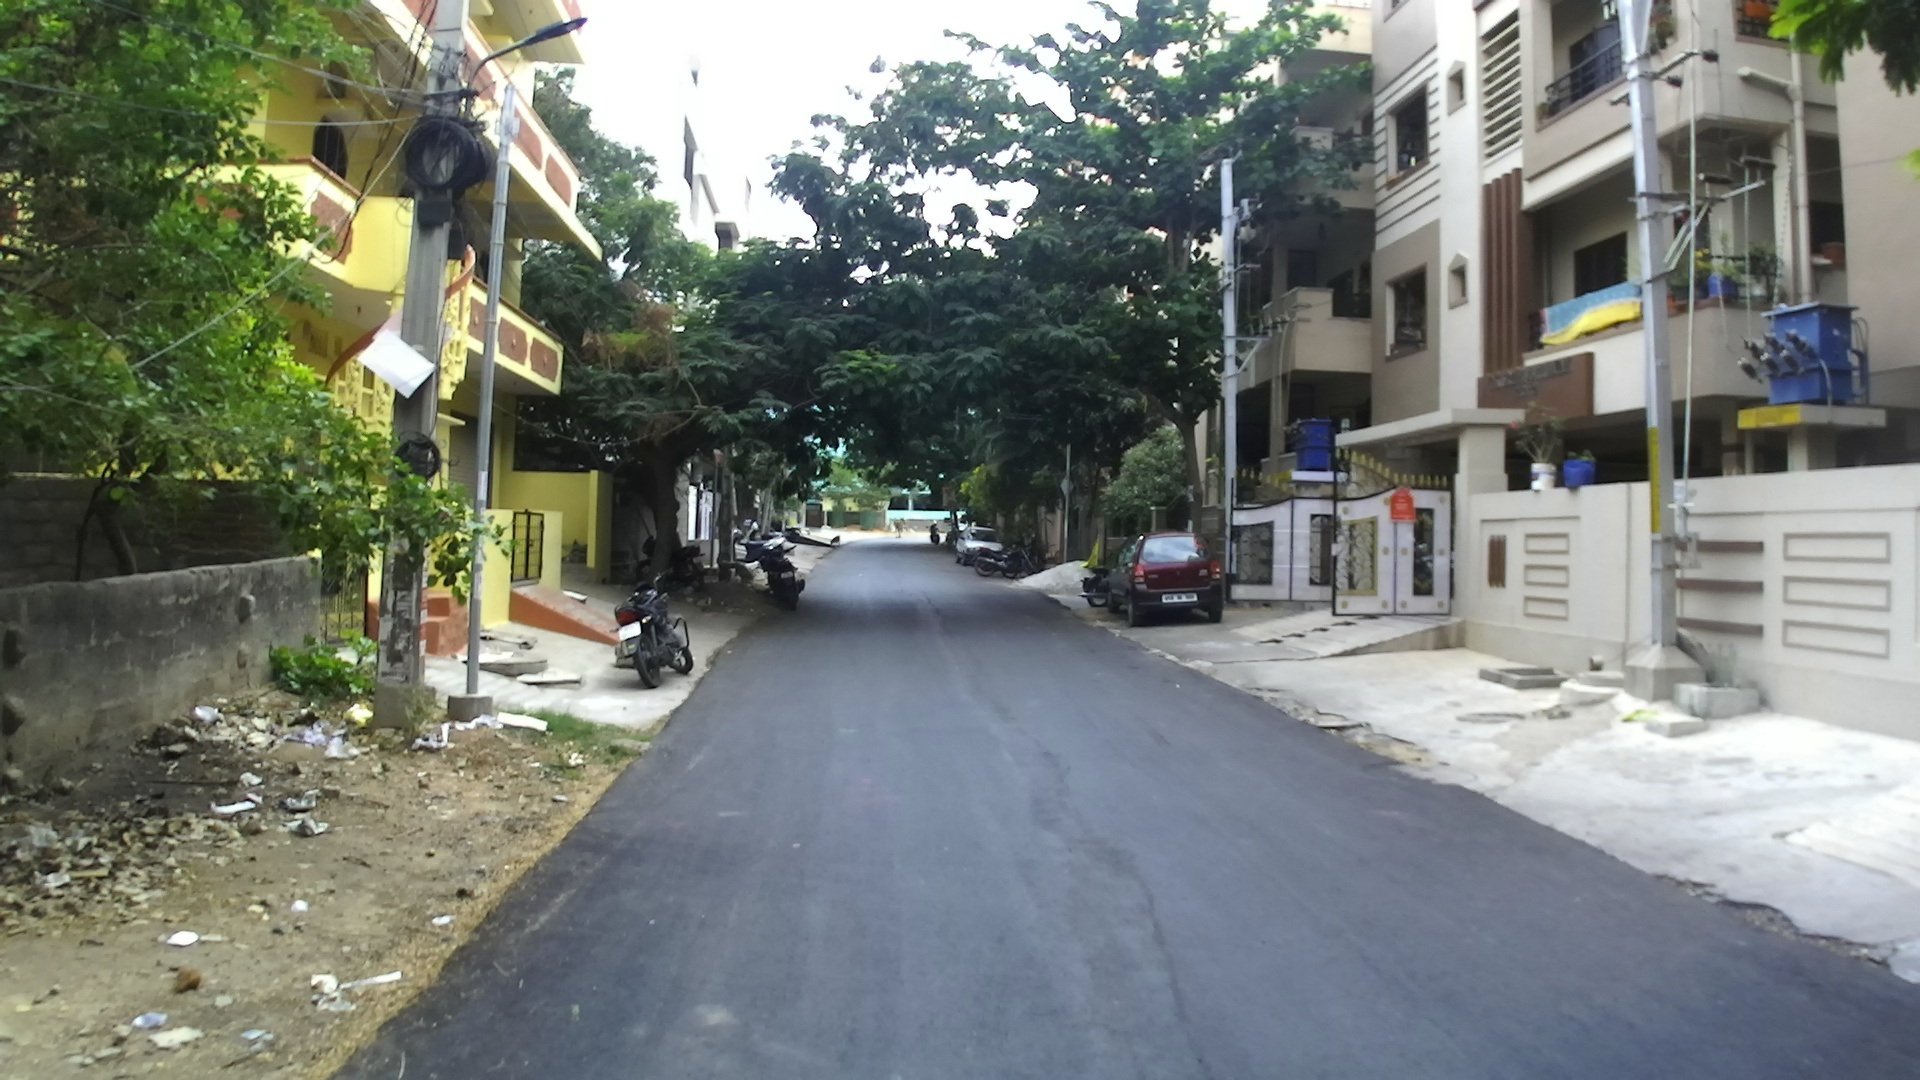vehicle: (1117, 531, 1229, 622), (615, 588, 695, 686), (955, 531, 1011, 574)
